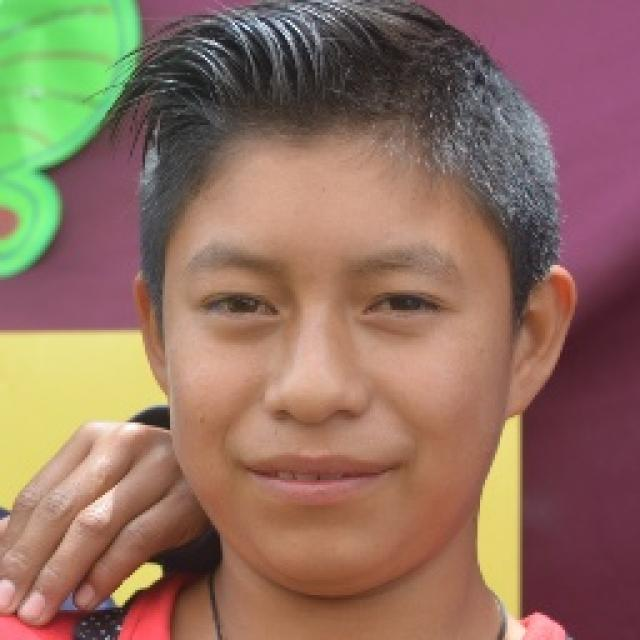earlobe: (506, 266, 579, 418), (134, 273, 173, 398)
